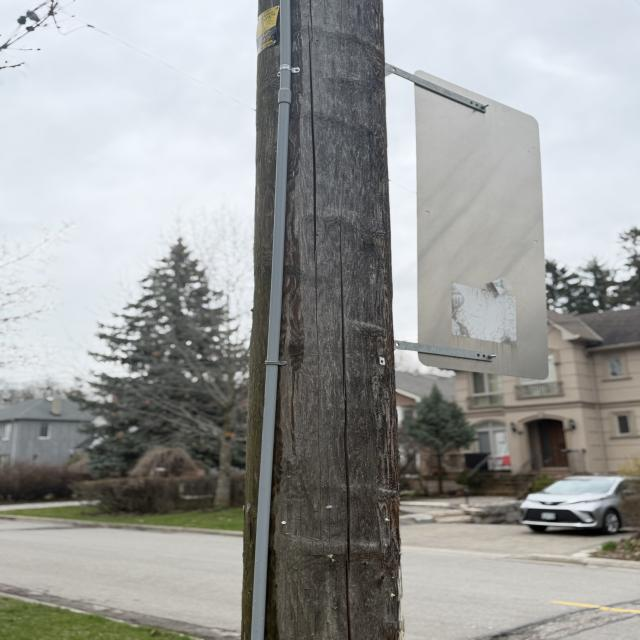Electrical Pole: (230, 0, 404, 638)
